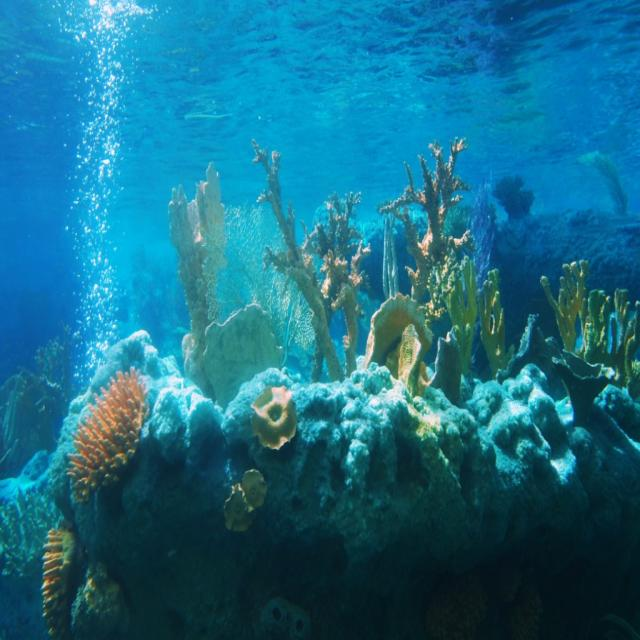Healthy: (254, 141, 370, 381), (217, 204, 315, 359), (382, 141, 470, 300), (170, 164, 225, 397), (542, 261, 640, 387), (69, 370, 150, 504), (204, 304, 282, 409), (446, 257, 510, 378), (365, 294, 433, 394), (72, 563, 130, 640), (542, 261, 589, 351), (44, 520, 78, 640), (252, 387, 297, 450), (225, 471, 268, 532)
